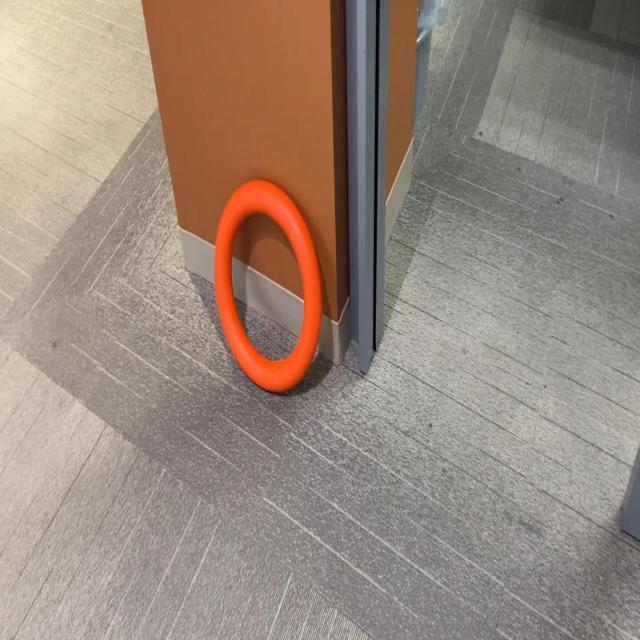note: (212, 176, 324, 395)
